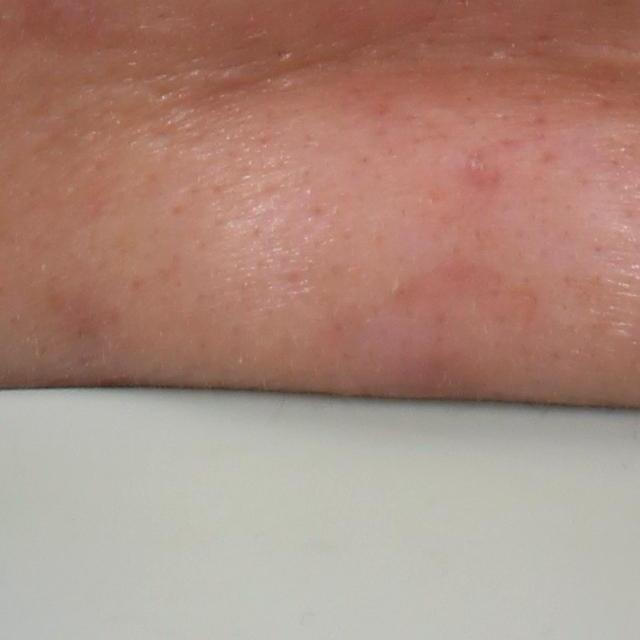papule: (464, 155, 489, 182)
